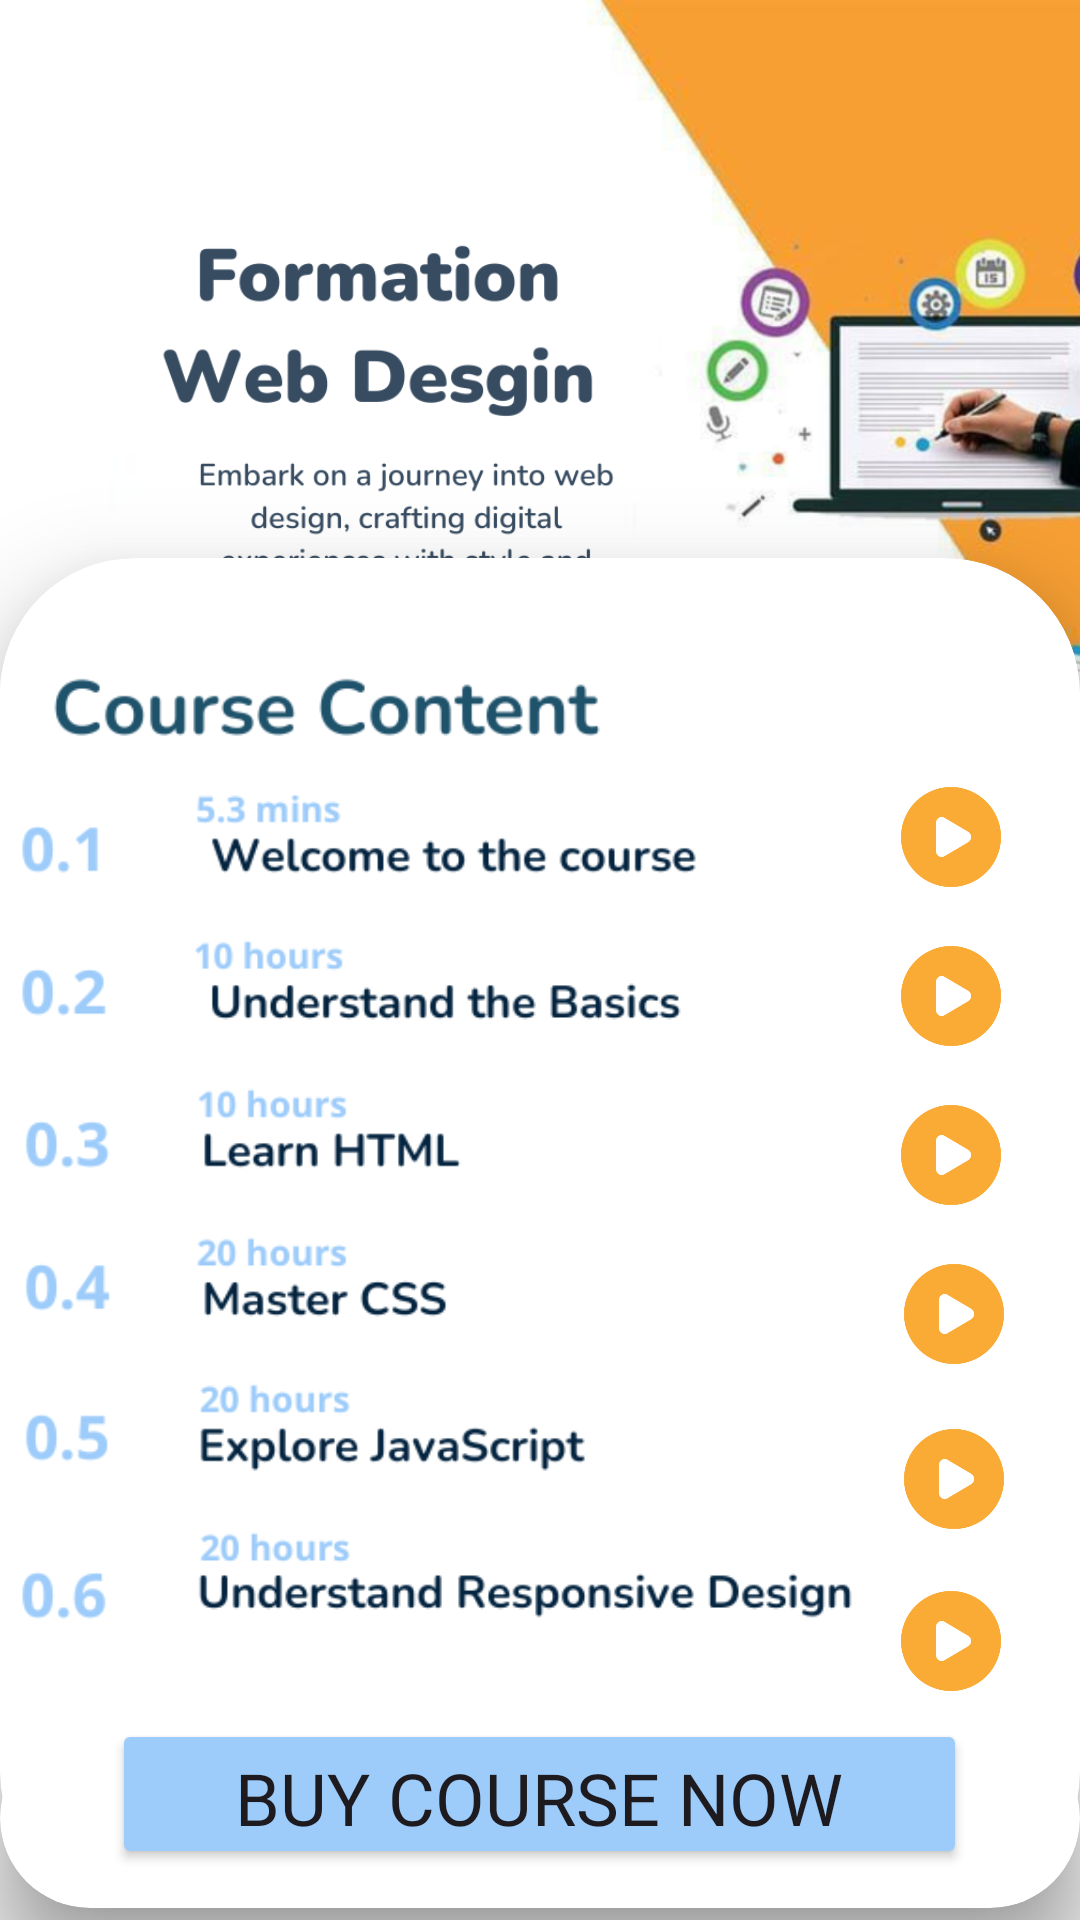

Icon bounding boxes for this 1080x1920 phone screenshot, format (left=x1, top=y1, right=x2, bottom=y2):
playicon: (left=901, top=787, right=1001, bottom=887), (left=901, top=946, right=1001, bottom=1046), (left=901, top=1105, right=1001, bottom=1205), (left=904, top=1264, right=1004, bottom=1364), (left=904, top=1429, right=1004, bottom=1529), (left=901, top=1591, right=1001, bottom=1691)
